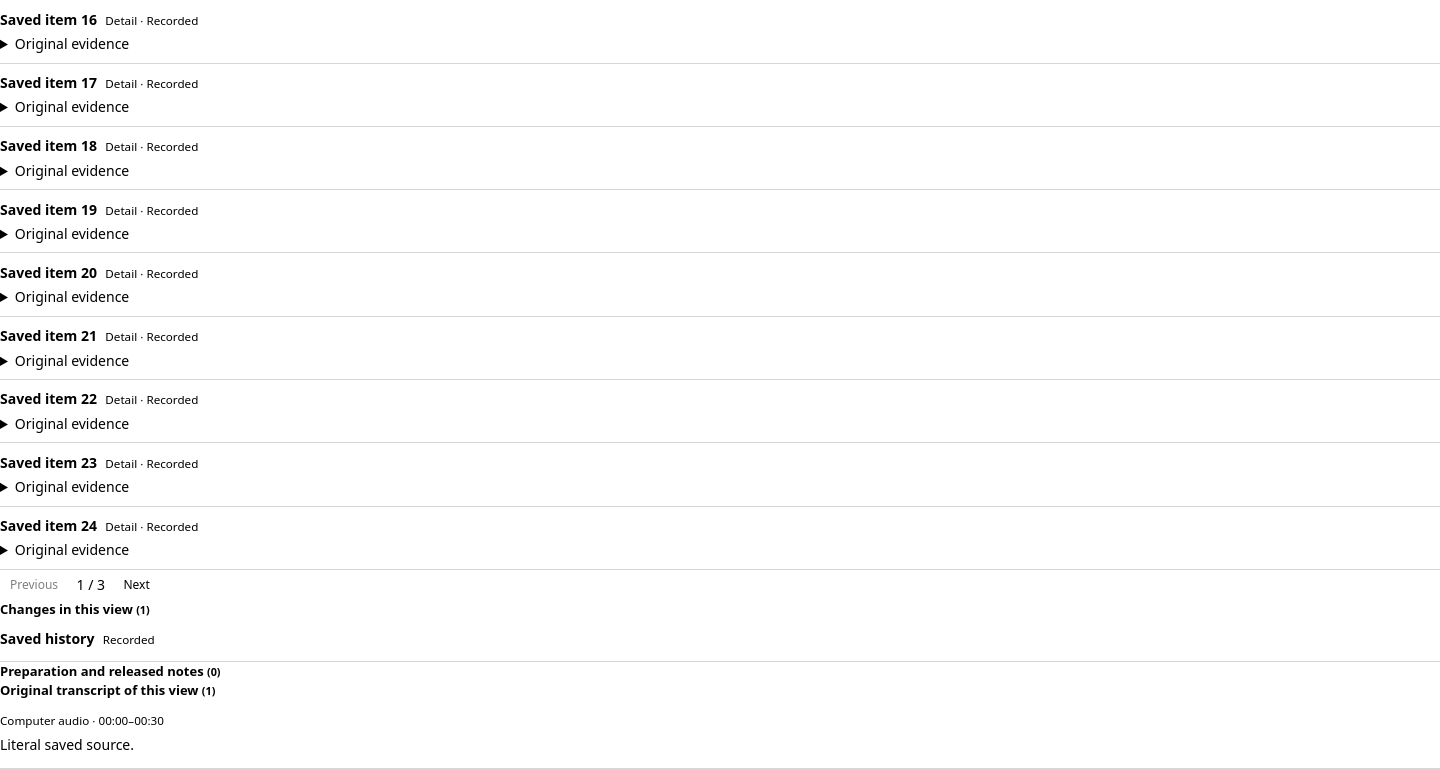
Test: keeps all older items reachable across bounded pages and leaves the saved payload unchanged
(page scrolled)
Click the button "Next".
click(137, 585)  # box [113,570,160,600]
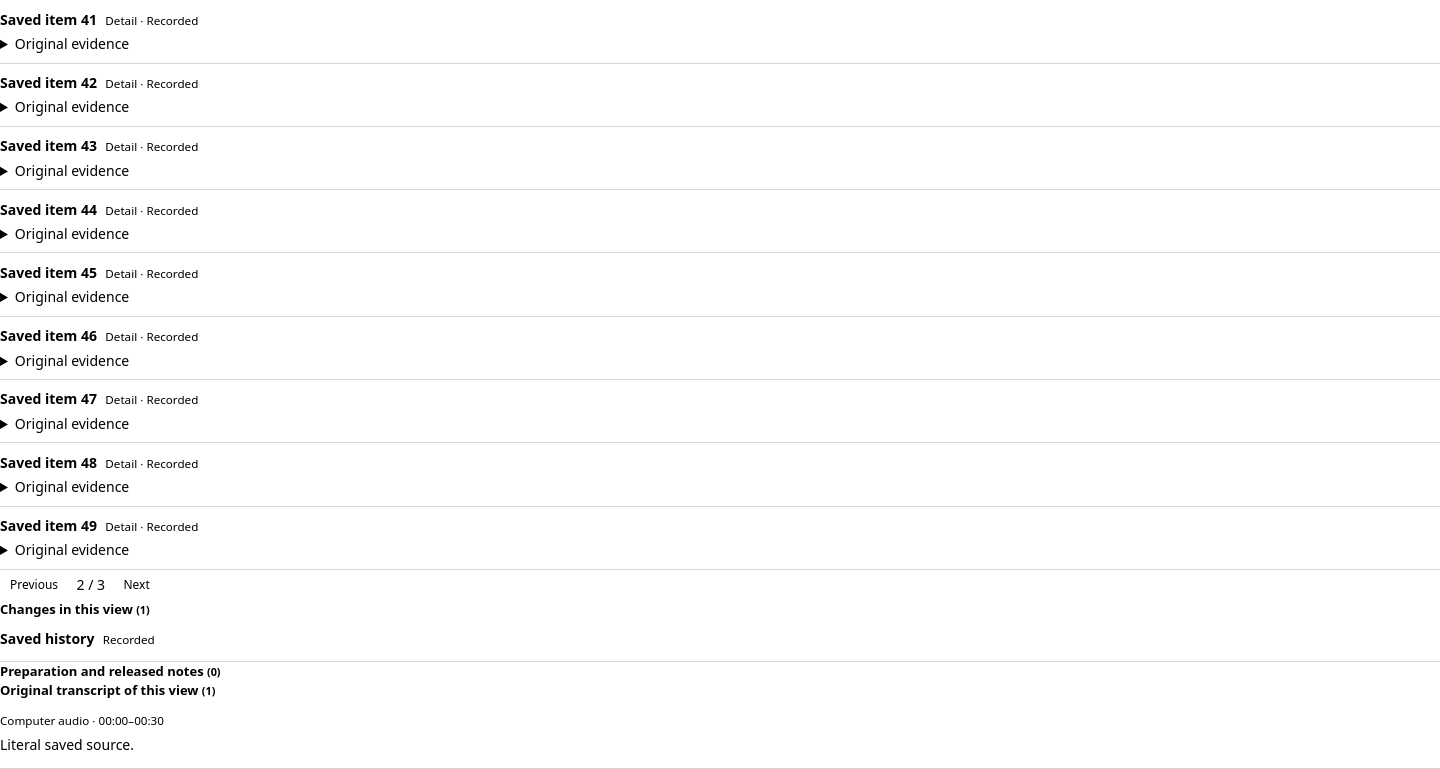
Click the button "Next".
click(137, 585)  # box [113,570,160,600]
(page scrolled)
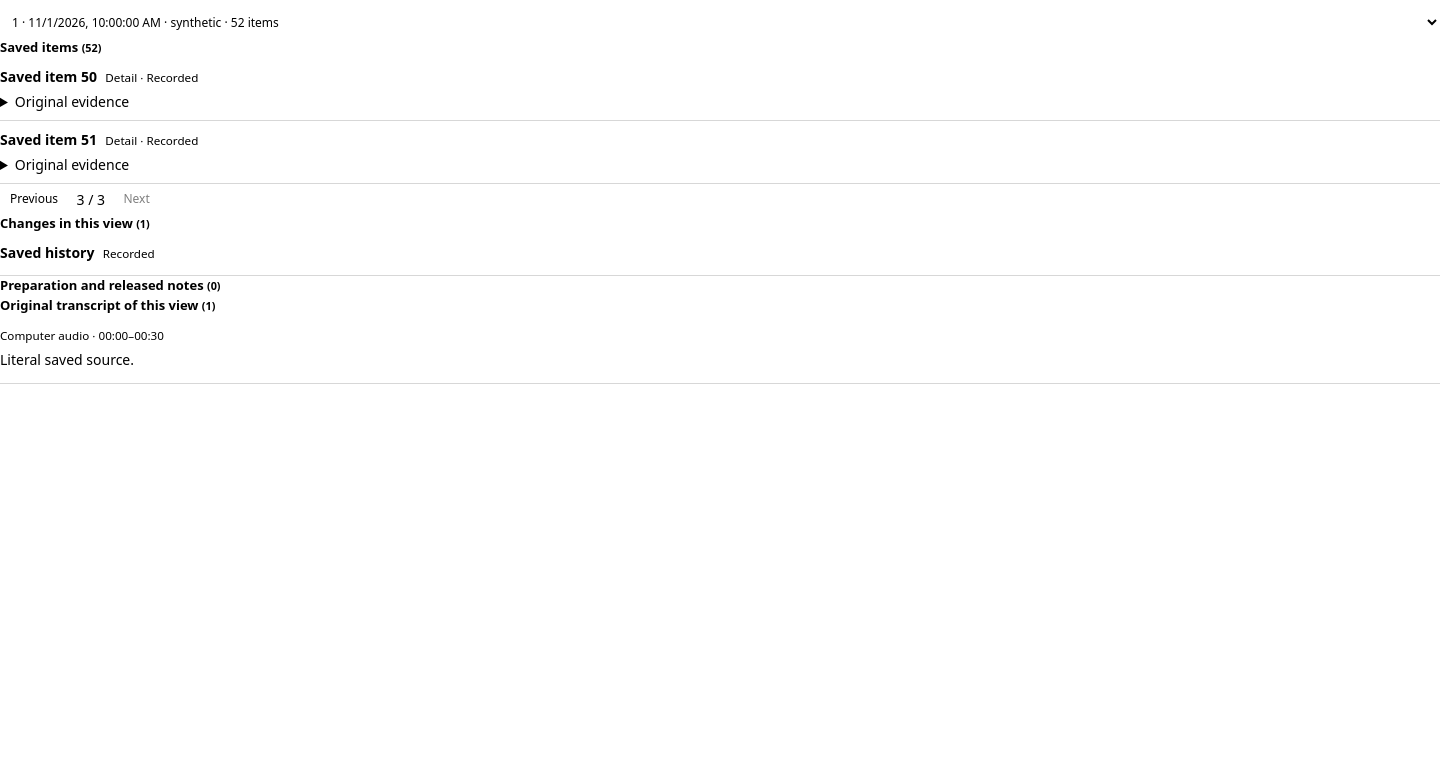
Expected: the heading "Saved item 51 Detail · Recorded" is shown, [0,130,198,150]
